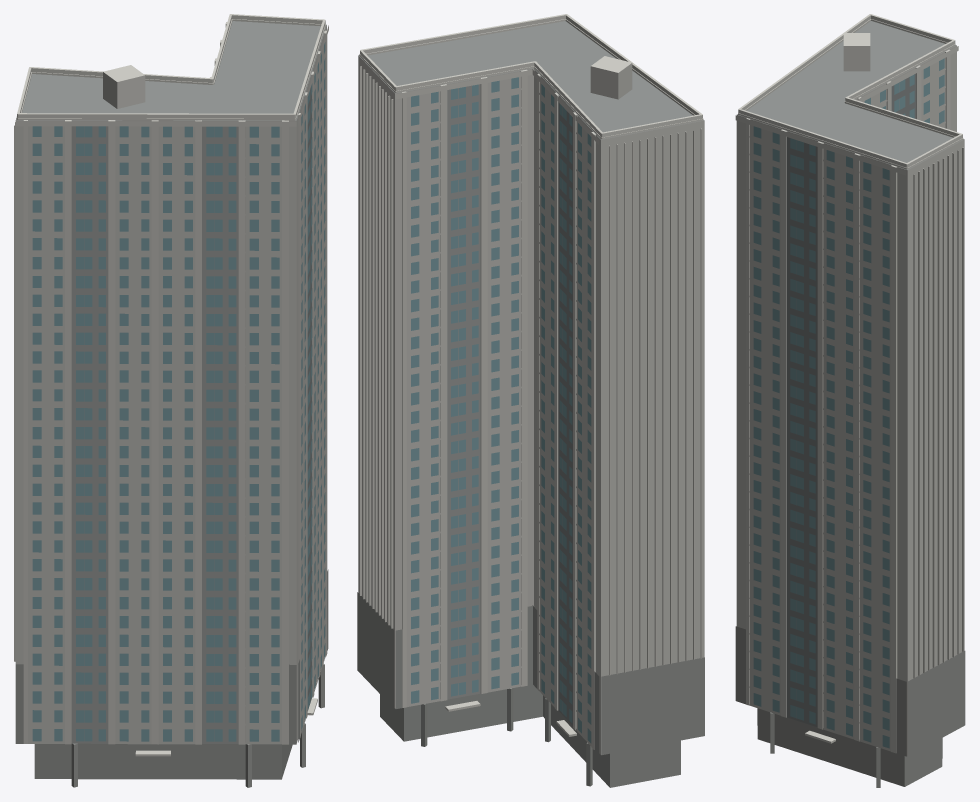
The model's file is maple-xi-209.glb.
3 views of the same model, side by side, from view 1: azimuth 30°, elevation 25°; view 2: azimuth 150°, elevation 25°; view 3: azimuth 270°, elevation 25° (orthographic). The views are drawn at different scales.
Visible parts, largest first — view 1: maple-xi-209; view 2: maple-xi-209; view 3: maple-xi-209.
Boxes of the visible parts, x1=… form: maple-xi-209: x1=14, y1=14, x2=328, y2=787; maple-xi-209: x1=357, y1=14, x2=704, y2=787; maple-xi-209: x1=735, y1=14, x2=965, y2=787.
Bounding box in the file's own units: 56.91 × 113 × 36.29.
